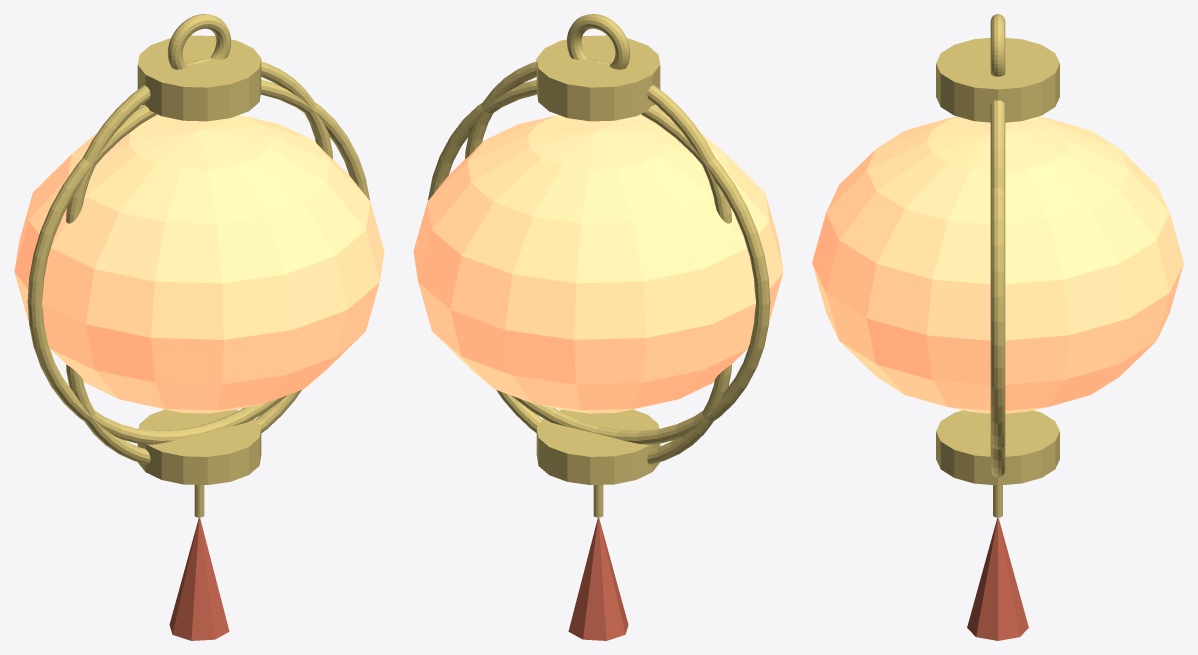
Rendered from lantern_red.glb.
3 renders of one model, left to right at view 1: azimuth 30°, elevation 25°; view 2: azimuth 150°, elevation 25°; view 3: azimuth 270°, elevation 25°, orthographic.
Visible parts, largest first — view 1: lantern_red; view 2: lantern_red; view 3: lantern_red.
Boxes of the visible parts, bbox=[...] form: lantern_red: bbox=[14, 14, 384, 640]; lantern_red: bbox=[413, 14, 783, 640]; lantern_red: bbox=[812, 14, 1183, 640].
Bounding box in the file's own units: 0.634 × 1.09 × 0.6.
